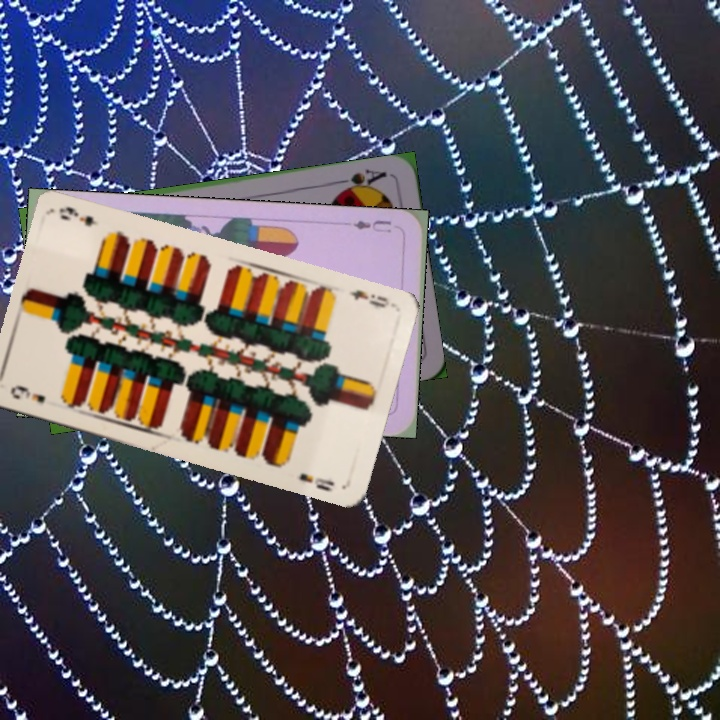E9: (345, 285, 395, 311), (6, 381, 48, 406)
EU: (349, 216, 394, 235)
SA: (332, 165, 390, 196)
